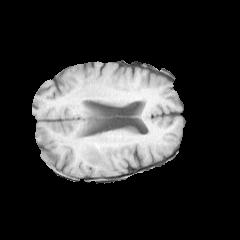glioma: (77, 137, 117, 177)
